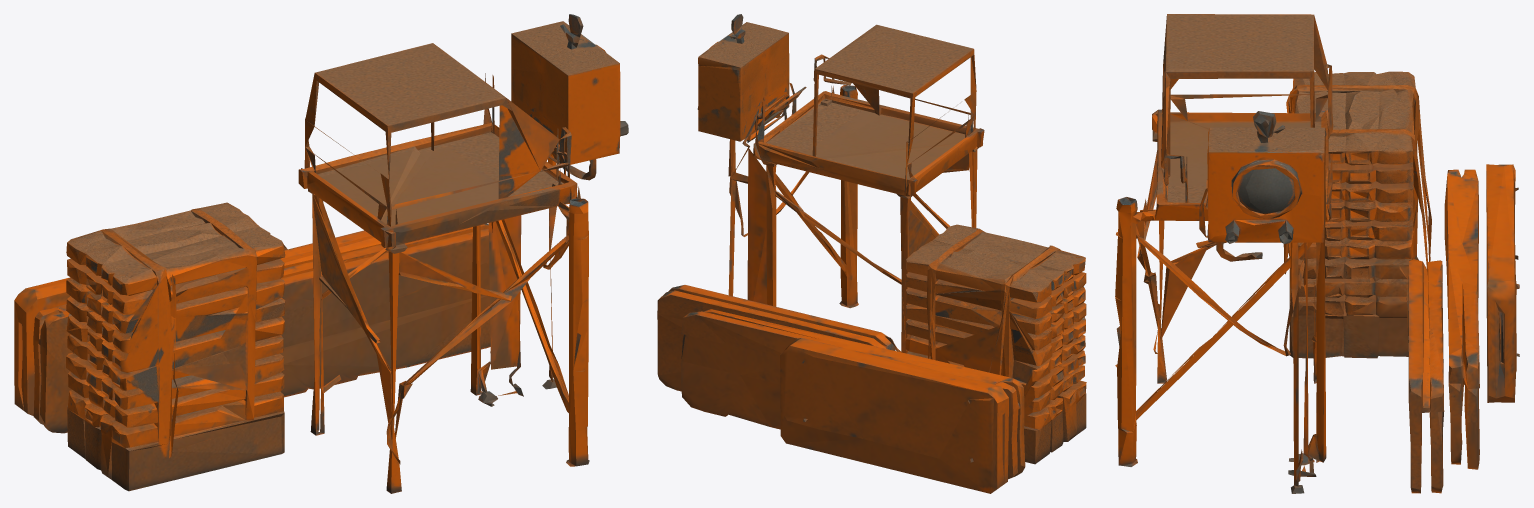
3 renders of one model, left to right at view 1: azimuth 30°, elevation 25°; view 2: azimuth 150°, elevation 25°; view 3: azimuth 270°, elevation 25°, orthographic. The views are drawn at different scales.
Size of the model in its own units: 1.9 by 1.47 by 1.4.
1 material, 1 textured.
